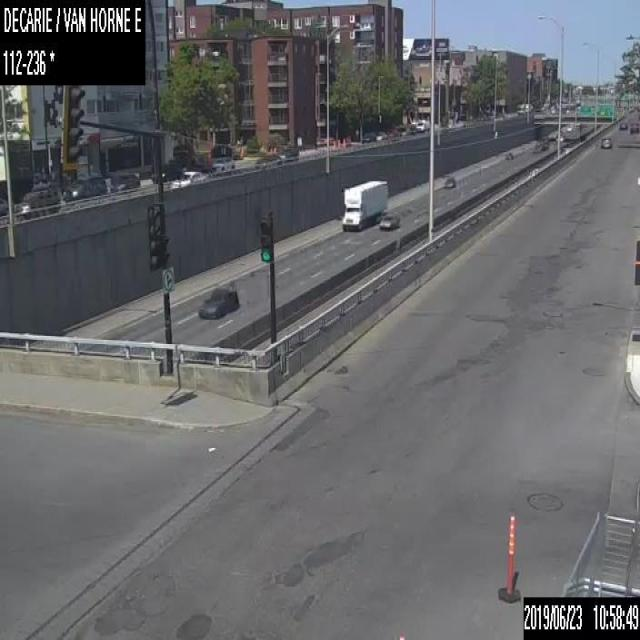construction: (495, 512, 520, 604), (337, 138, 340, 149), (342, 138, 344, 148), (333, 140, 335, 149)
vehicle: (341, 179, 388, 229), (199, 287, 238, 317), (64, 176, 104, 200), (21, 189, 59, 211), (110, 172, 139, 192), (170, 171, 205, 186), (254, 153, 281, 170), (379, 210, 399, 228), (212, 156, 234, 171), (277, 147, 298, 160), (416, 120, 429, 131), (629, 120, 639, 134), (361, 132, 375, 142), (442, 177, 455, 187), (0, 195, 7, 213), (600, 137, 610, 148), (376, 130, 386, 140), (618, 121, 626, 129), (555, 134, 564, 141), (504, 152, 512, 159)
